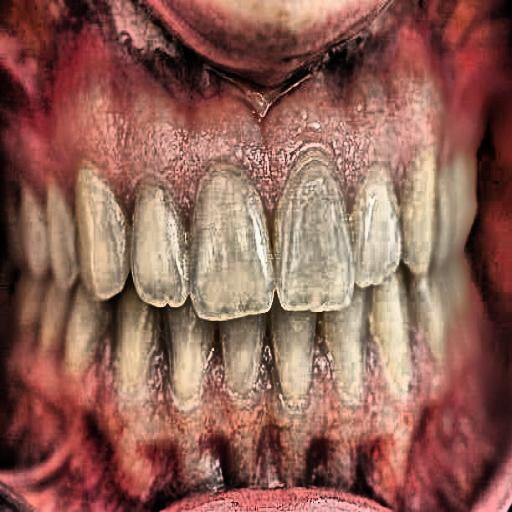Gingivitis: (4, 61, 506, 185)
